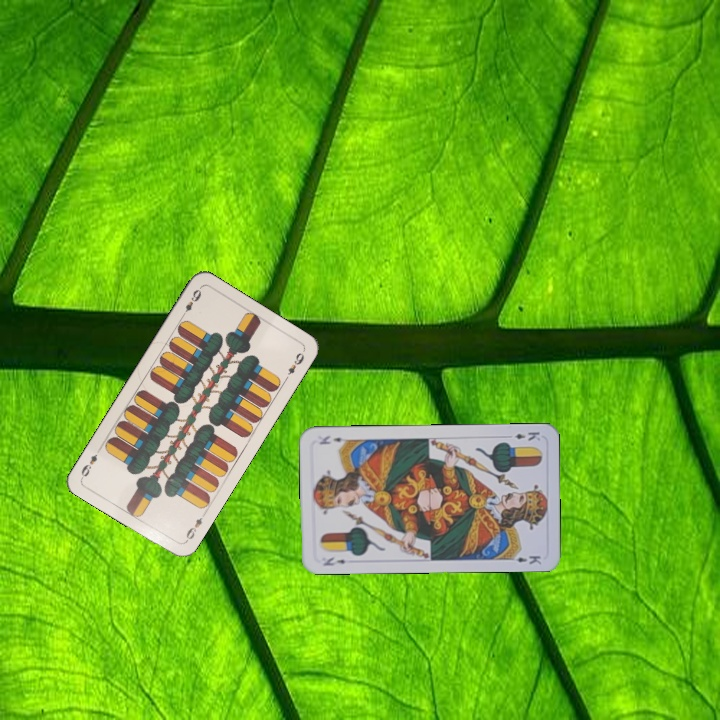E9: (181, 509, 208, 545), (177, 285, 204, 320)
EK: (511, 428, 543, 443), (319, 553, 348, 568)
